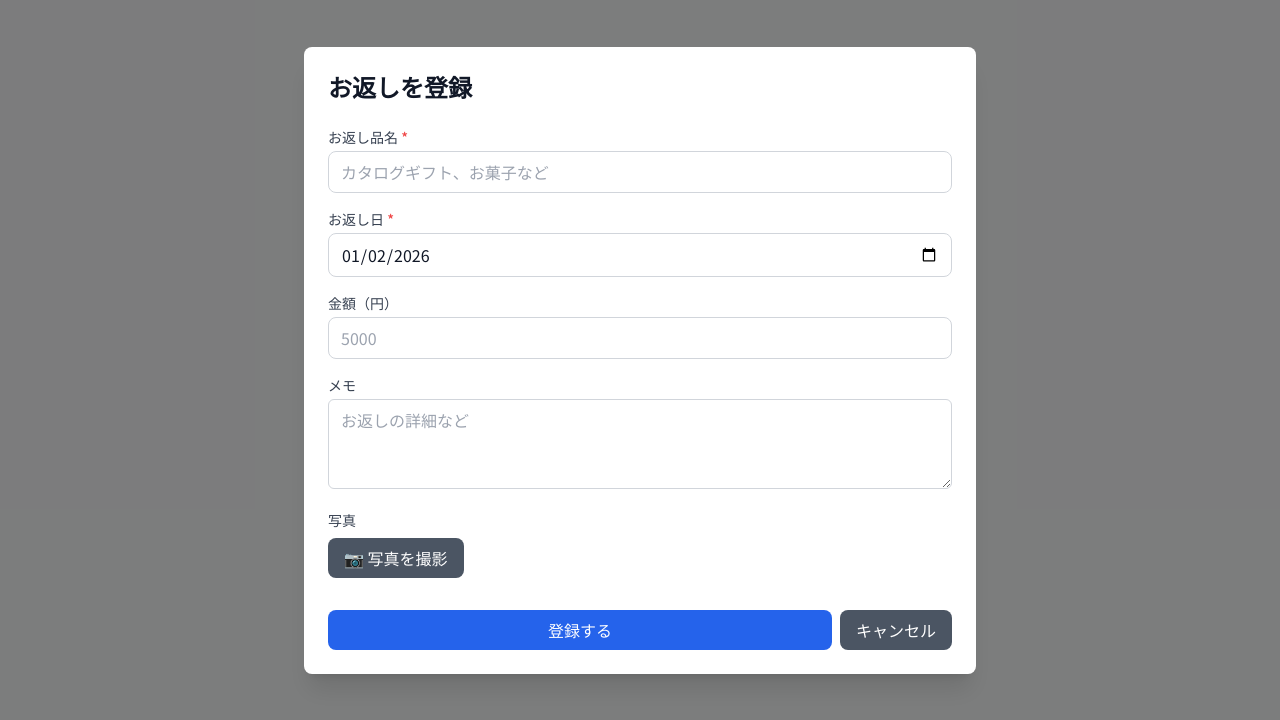
Test: ReturnForm › お返し品名が未入力の場合はエラーを表示
Click the button "登録する". click: (580, 630)
box: x1=328 y1=610 x2=832 y2=650
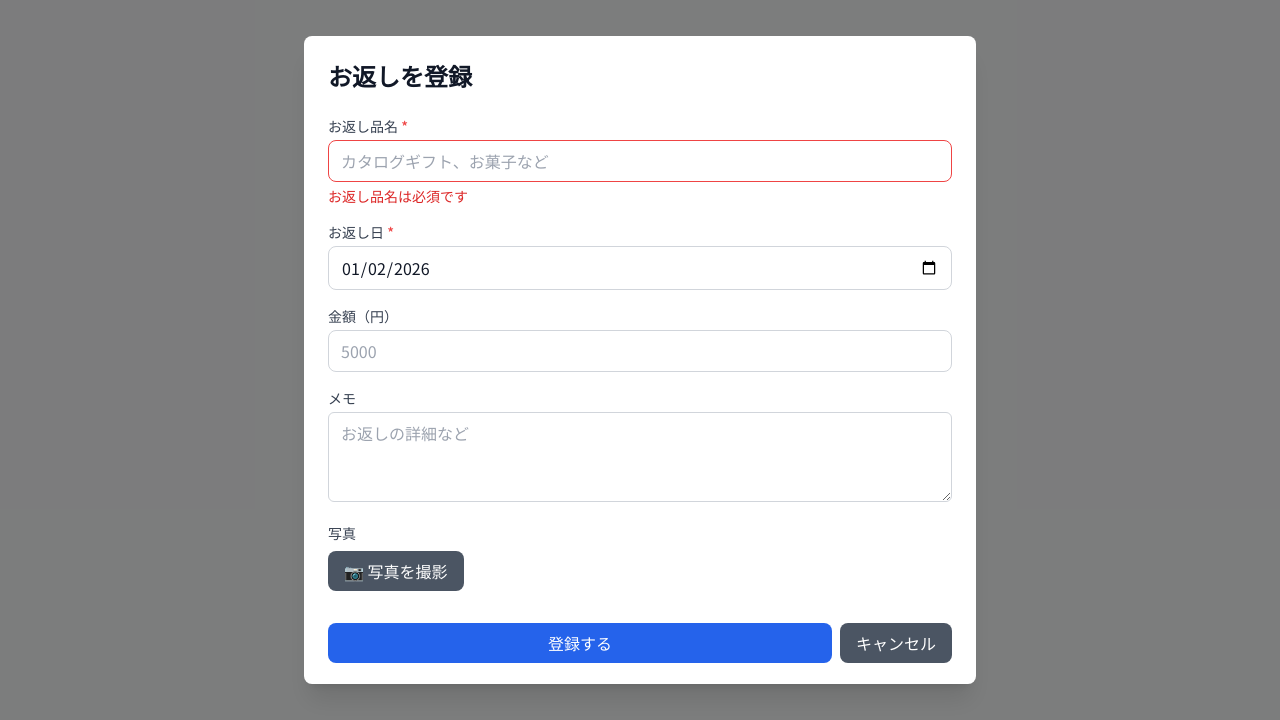
Expected: the text "お返し品名は必須です" is shown, x1=328 y1=186 x2=468 y2=206
